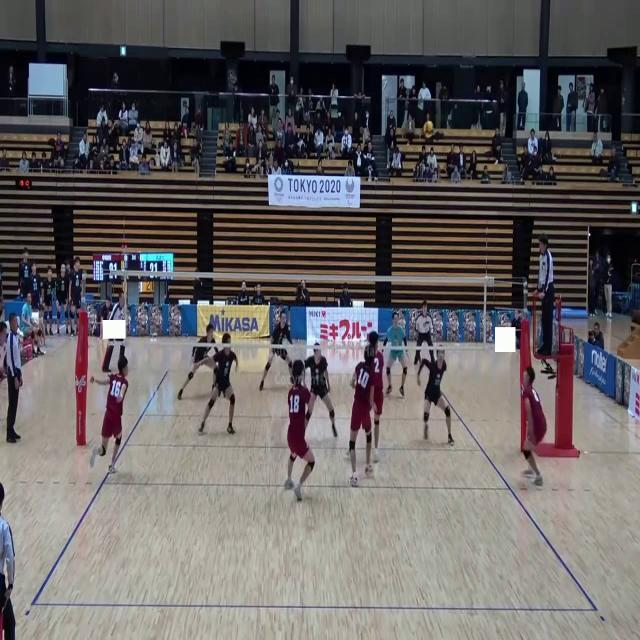volleyball: (426, 120, 434, 135)
